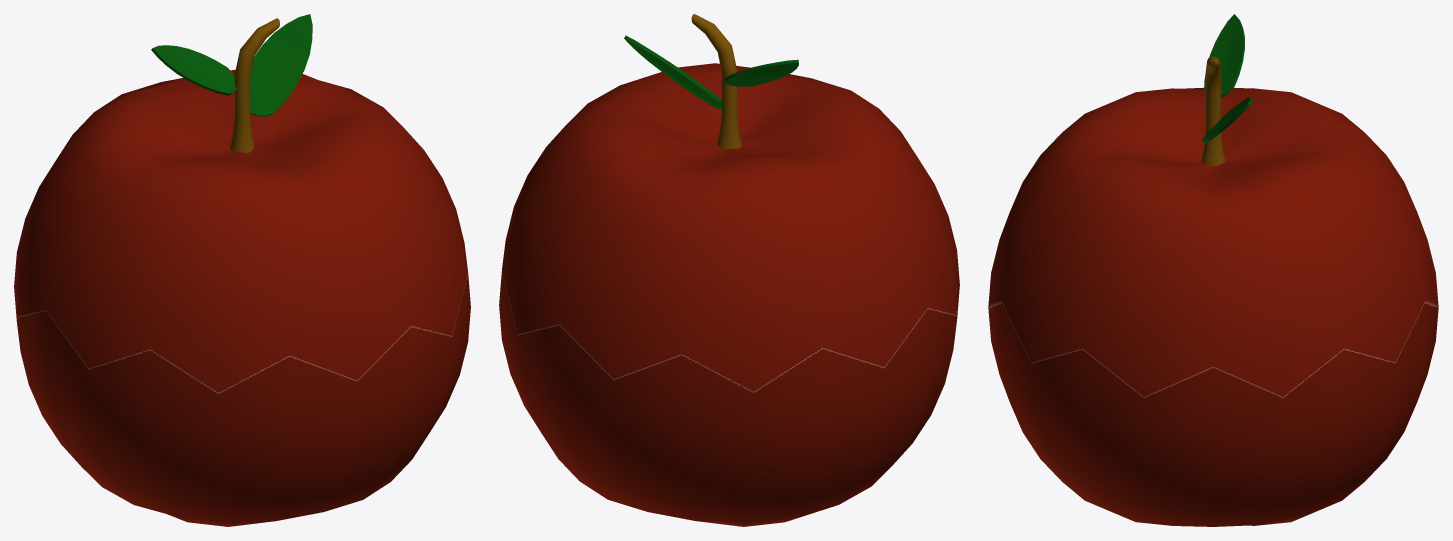
Rendered from ManzanaRota.fbx.
3 renders of one model, left to right at view 1: azimuth 30°, elevation 25°; view 2: azimuth 150°, elevation 25°; view 3: azimuth 270°, elevation 25°, orthographic. The views are drawn at different scales.
Parts seen in each view (by area): view 1: ManzanaArriba, ManzanaAbajo, HojitaBaja, HojitaAlta; view 2: ManzanaArriba, ManzanaAbajo, HojitaBaja, HojitaAlta; view 3: ManzanaArriba, ManzanaAbajo, HojitaAlta, HojitaBaja.
Boxes of the visible parts, left/top/right/bottom form: ManzanaArriba: left=17, top=18, right=467, bottom=393; ManzanaAbajo: left=14, top=252, right=470, bottom=526; HojitaBaja: left=250, top=14, right=312, bottom=116; HojitaAlta: left=151, top=45, right=236, bottom=95; ManzanaArriba: left=502, top=14, right=956, bottom=392; ManzanaAbajo: left=499, top=251, right=959, bottom=526; HojitaBaja: left=624, top=35, right=723, bottom=109; HojitaAlta: left=724, top=59, right=798, bottom=86; ManzanaArriba: left=988, top=56, right=1438, bottom=397; ManzanaAbajo: left=988, top=302, right=1438, bottom=526; HojitaAlta: left=1204, top=14, right=1244, bottom=97; HojitaBaja: left=1202, top=97, right=1252, bottom=143.
Bounding box in the file's own units: 17.85 × 19.07 × 17.85.
Materials: 3 (3 with a texture image).
